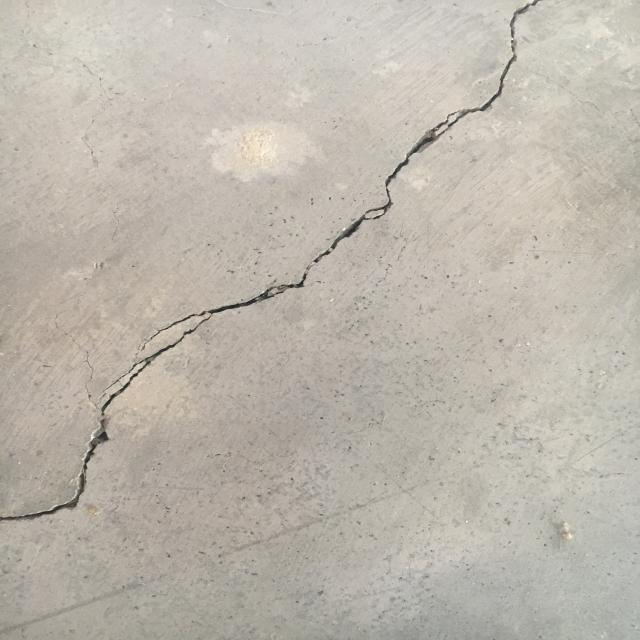Rachadura: (0, 0, 549, 526)
